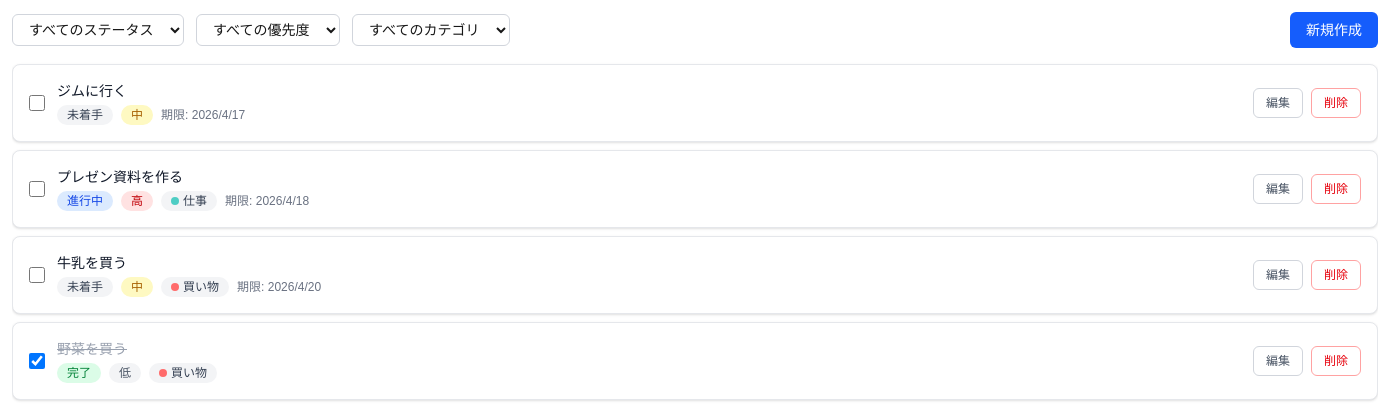
TodoList › ステータスフィルターで絞り込みできる
expect the heading "牛乳を買う" is shown: met, box x1=57 y1=253 x2=127 y2=273
Select "完了" in the dropdown named "ステータスフィルター" at (98, 30), box x1=12 y1=14 x2=184 y2=46
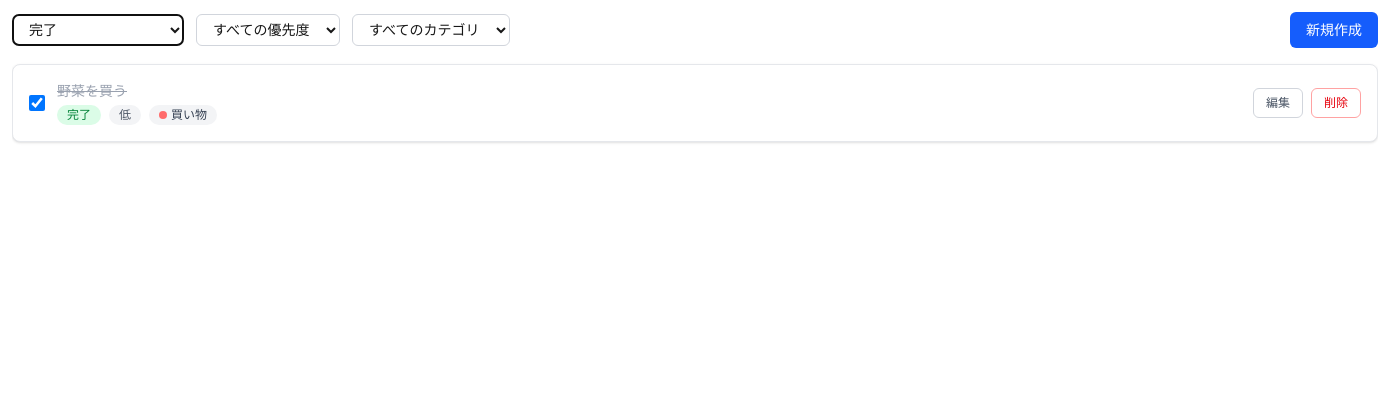
expect the heading "野菜を買う" is shown: met, box x1=57 y1=81 x2=127 y2=101
expect the heading "牛乳を買う" is gone: met
